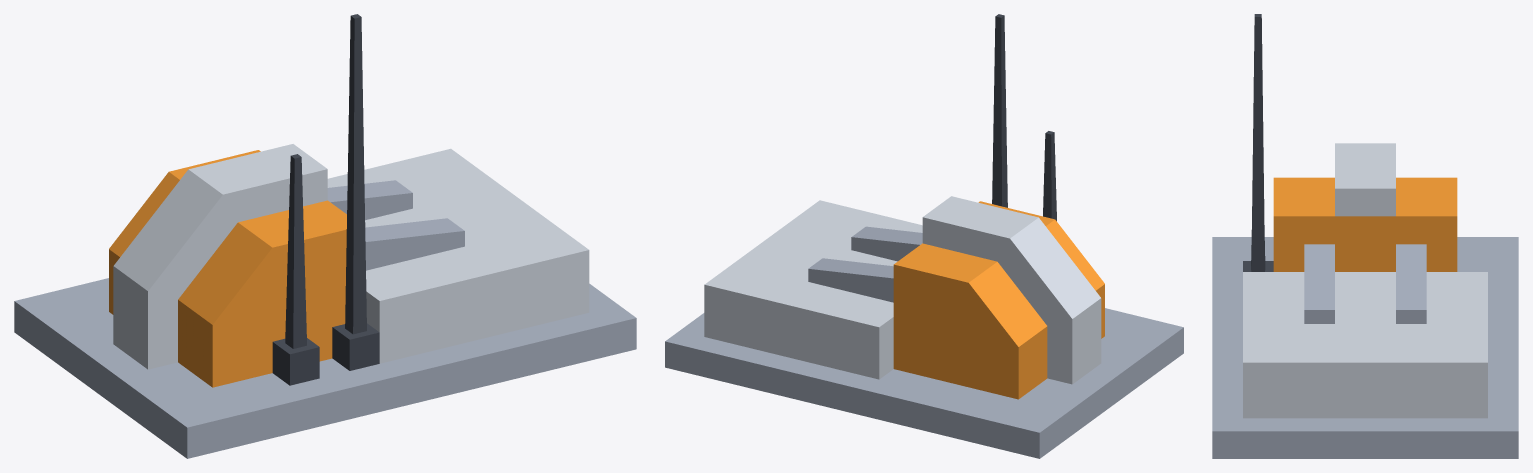
Rendered from machine_wireless.dae.
The picture shows the model from 3 angles, left to right: view 1: azimuth 30°, elevation 25°; view 2: azimuth 150°, elevation 25°; view 3: azimuth 270°, elevation 25°; orthographic projection. The views are drawn at different scales.
Visible parts, largest first — view 1: machine_wireless; view 2: machine_wireless; view 3: machine_wireless.
Boxes of the visible parts, bbox=[...] form: machine_wireless: bbox=[14, 14, 636, 458]; machine_wireless: bbox=[665, 14, 1183, 458]; machine_wireless: bbox=[1212, 14, 1518, 458].
Bounding box in the file's own units: 0.75 × 0.6 × 0.5.
